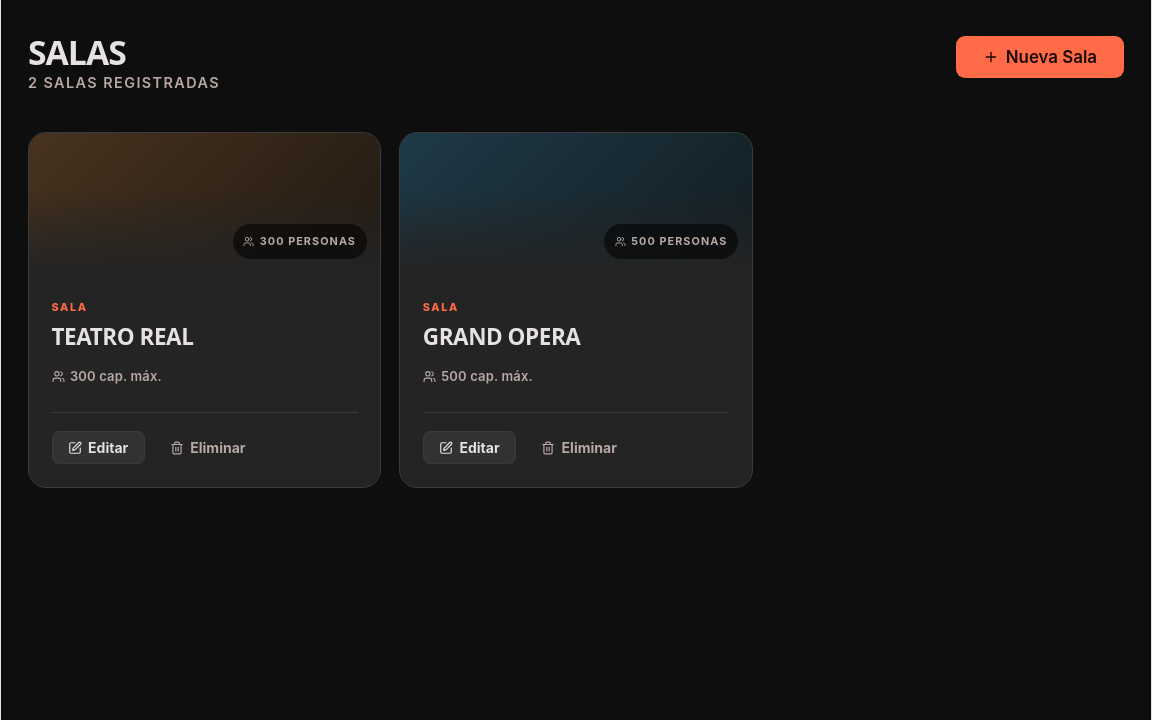
Test: RoomsAdminPage › cancels delete when "No" is clicked
The width and height of the screenshot is (1152, 720).
Click the button titled "Eliminar sala" below "Teatro Real".
click(208, 448)  # box [154,431,262,464]
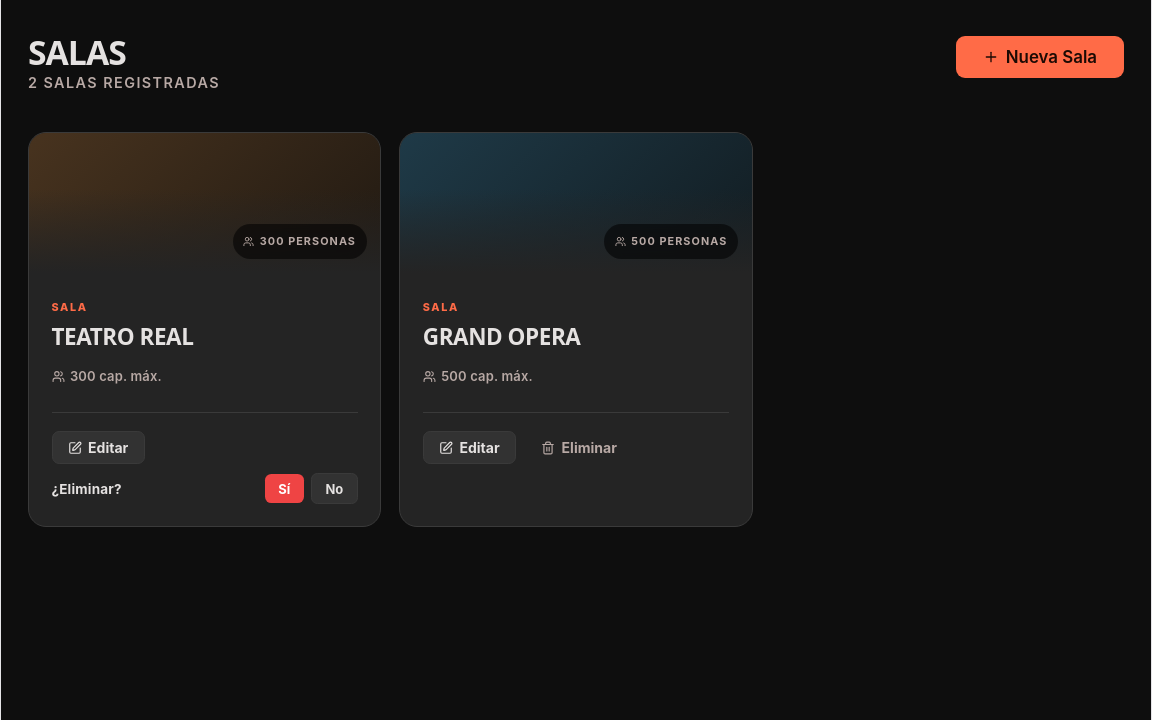
Result: the text "¿Eliminar?" is shown at [52,480,122,496]
Click the button "No".
click(334, 489)  # box [311,473,358,504]
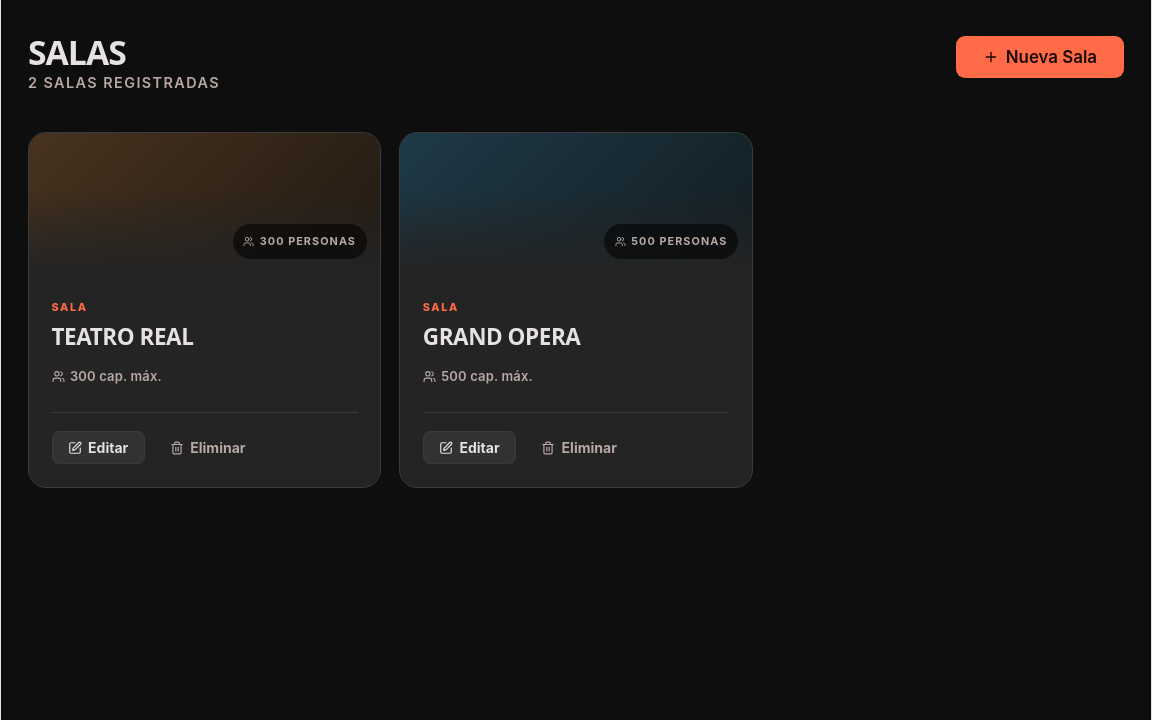
Result: the text "¿Eliminar?" is gone
